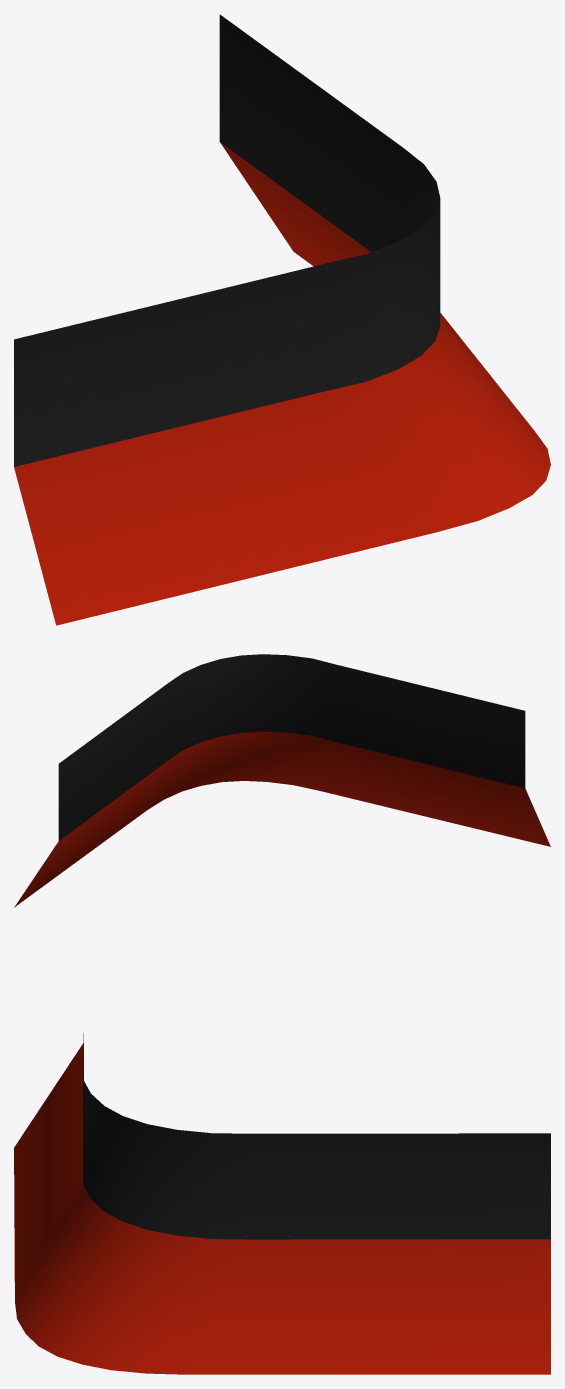
Rendered from S_assete_basement_wall_soft_inside_corner_top_1.fbx.
The picture shows the model from 3 angles, top to bottom: view 1: azimuth 30°, elevation 25°; view 2: azimuth 150°, elevation 25°; view 3: azimuth 270°, elevation 25°; orthographic projection. The views are drawn at different scales.
Visible parts, largest first — view 1: basement_wall_soft_inside_corner_top_1; view 2: basement_wall_soft_inside_corner_top_1; view 3: basement_wall_soft_inside_corner_top_1.
Part boxes in pixels (x1=…): basement_wall_soft_inside_corner_top_1: x1=14, y1=14, x2=550, y2=625; basement_wall_soft_inside_corner_top_1: x1=14, y1=654, x2=550, y2=907; basement_wall_soft_inside_corner_top_1: x1=14, y1=1033, x2=550, y2=1374.
Bounding box in the file's own units: 230 × 100 × 230.
